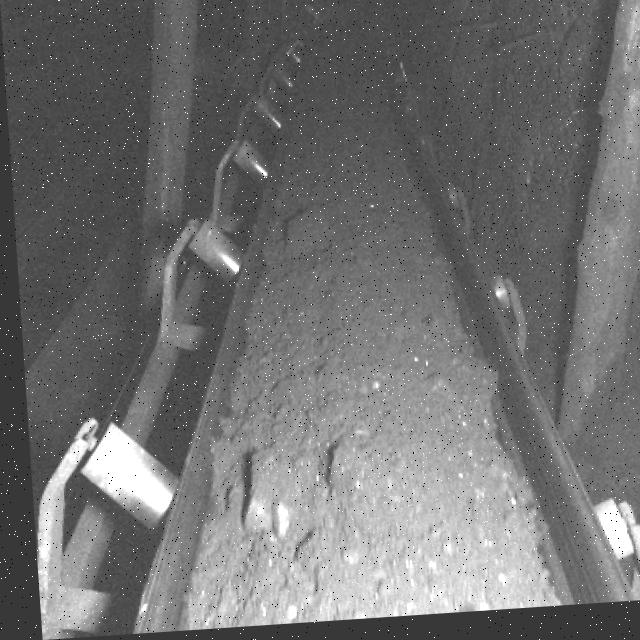large_sized_coal: (233, 450, 286, 547), (275, 208, 324, 273)
